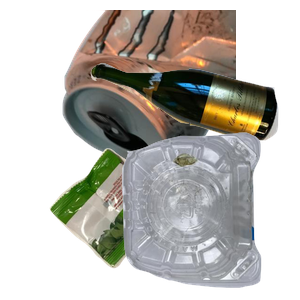glass: (88, 60, 300, 193)
metal: (60, 10, 300, 175)
plastic: (119, 130, 300, 300)
trash: (47, 146, 220, 300)
